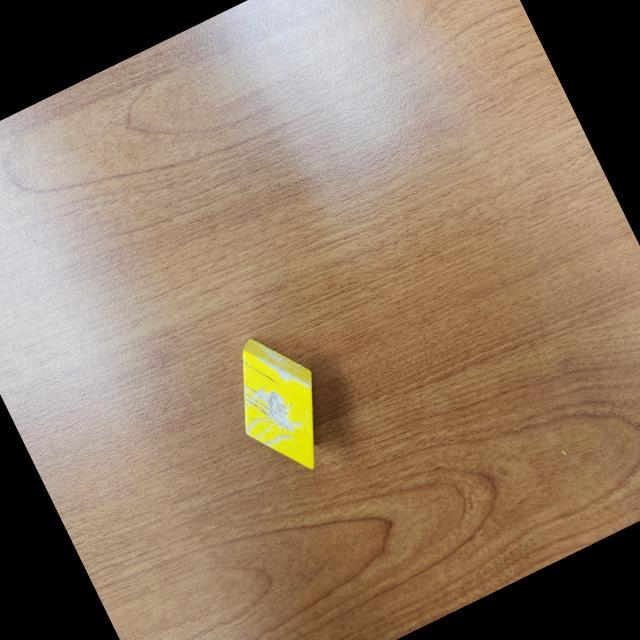broken: (210, 322, 350, 490)
